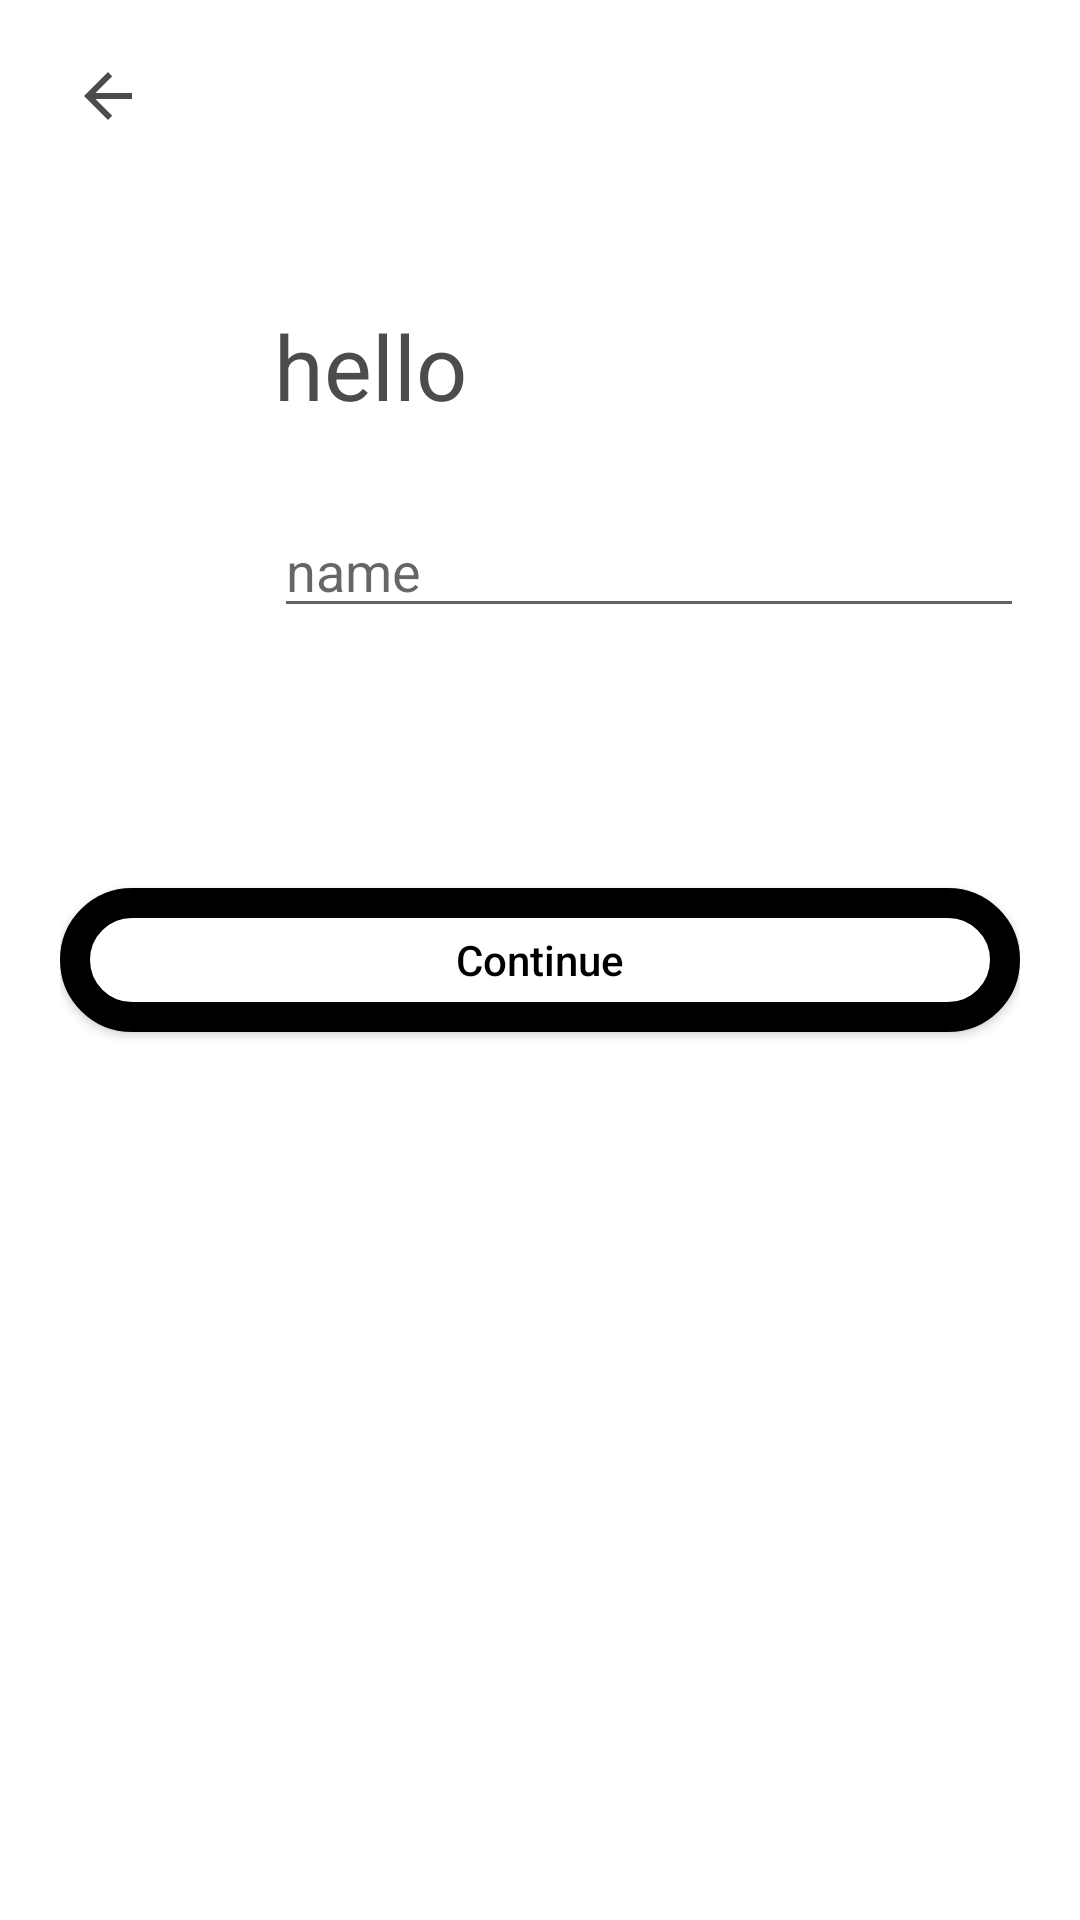

Locate icon controls on the screen. Image size 1080px×1920px, boxes as (x1, y1, x2, y2).
back: (84, 72, 132, 120)
